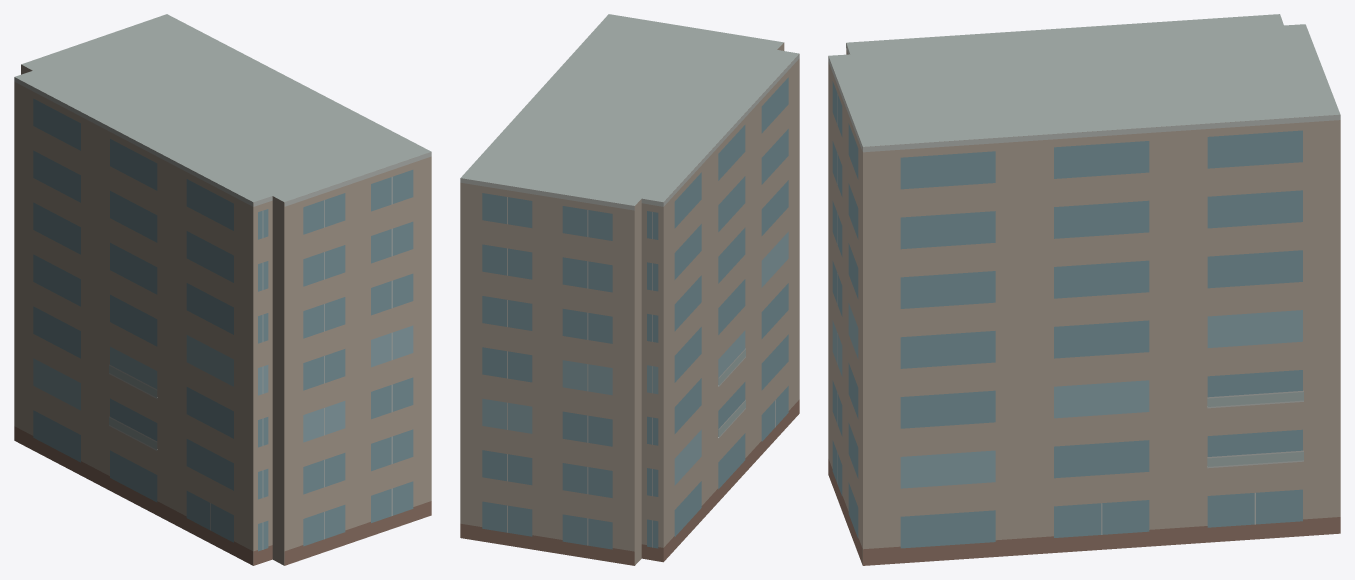
The model's file is survey-upis-32988381.glb.
The picture shows the model from 3 angles, left to right: view 1: azimuth 30°, elevation 25°; view 2: azimuth 150°, elevation 25°; view 3: azimuth 270°, elevation 25°; orthographic projection. The views are drawn at different scales.
Visible parts, largest first — view 1: survey-upis-32988381.tmp; view 2: survey-upis-32988381.tmp; view 3: survey-upis-32988381.tmp.
Boxes of the visible parts, x1=… form: survey-upis-32988381.tmp: x1=14, y1=14, x2=431, y2=565; survey-upis-32988381.tmp: x1=460, y1=14, x2=799, y2=565; survey-upis-32988381.tmp: x1=828, y1=14, x2=1340, y2=565.
Size of the model in its own units: 12.94 by 19 by 21.06.
